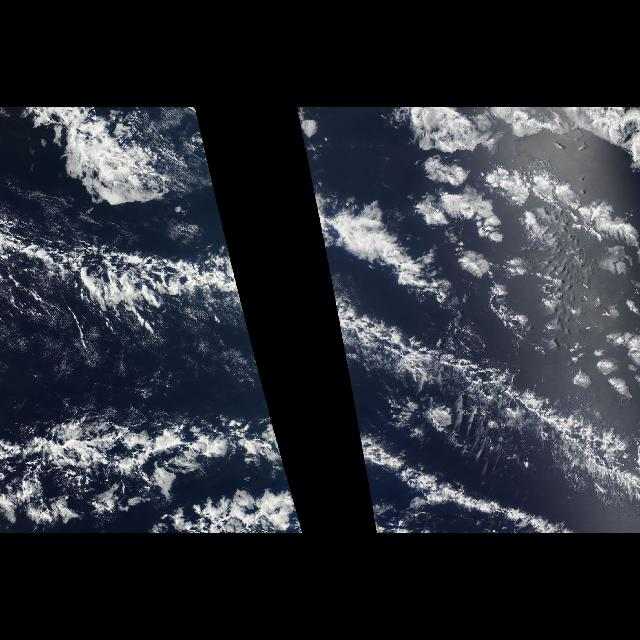Fish: (314, 202, 640, 532), (1, 202, 301, 524)
Flower: (342, 108, 640, 408)
